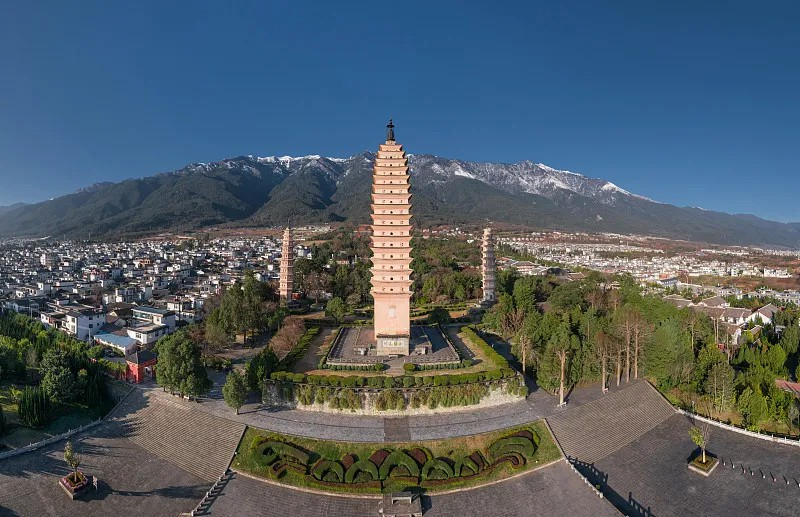ThreePagoda: (369, 120, 415, 339)
